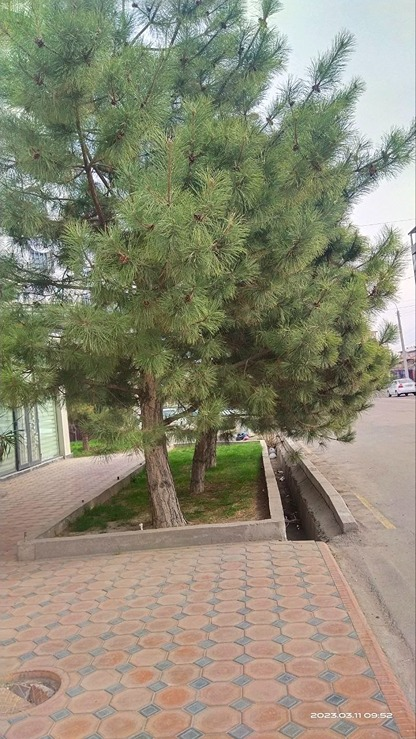car: (387, 374, 416, 398)
tree: (0, 0, 409, 538)
